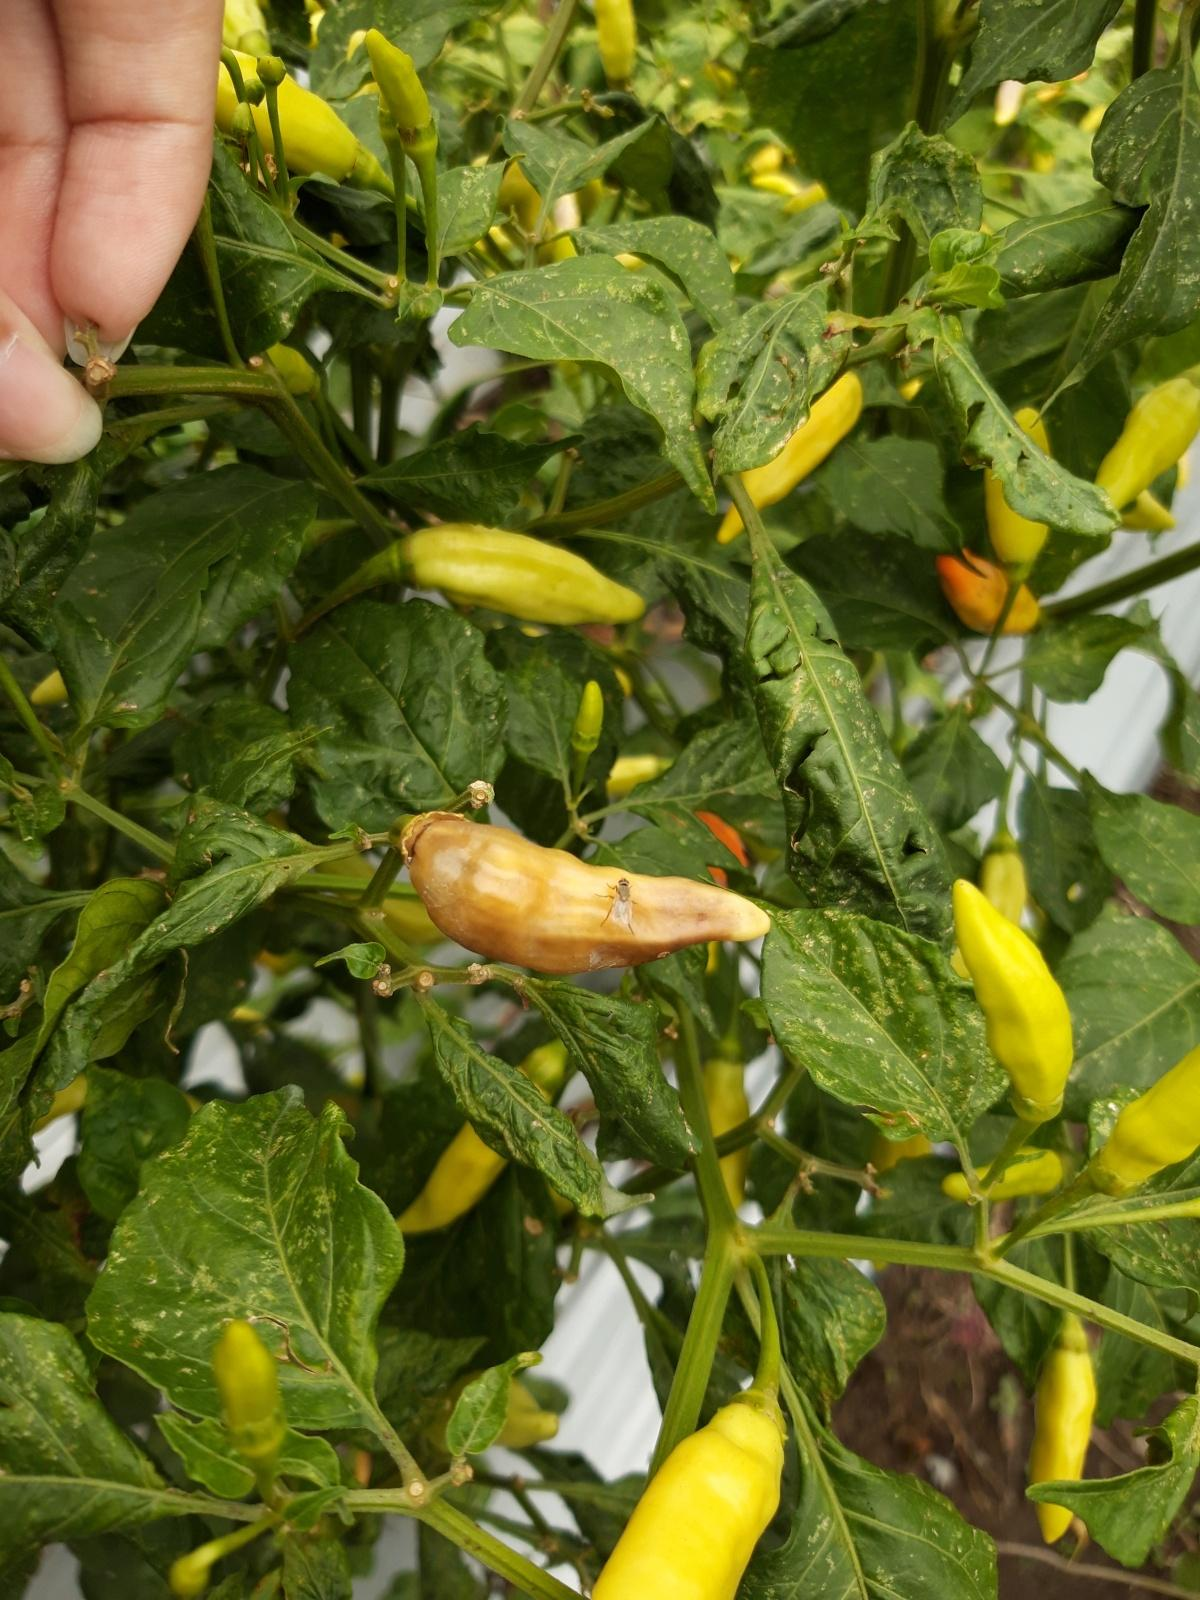cabai_normal: (587, 1402, 787, 1600), (950, 878, 1076, 1124), (388, 1065, 558, 1233), (400, 523, 648, 627), (717, 374, 863, 543), (1027, 1319, 1097, 1545), (1100, 1039, 1200, 1189), (1094, 380, 1200, 513), (982, 406, 1053, 569), (933, 551, 1045, 632), (218, 1325, 287, 1425), (945, 1148, 1061, 1199)
lalat_buah: (406, 809, 771, 976)
